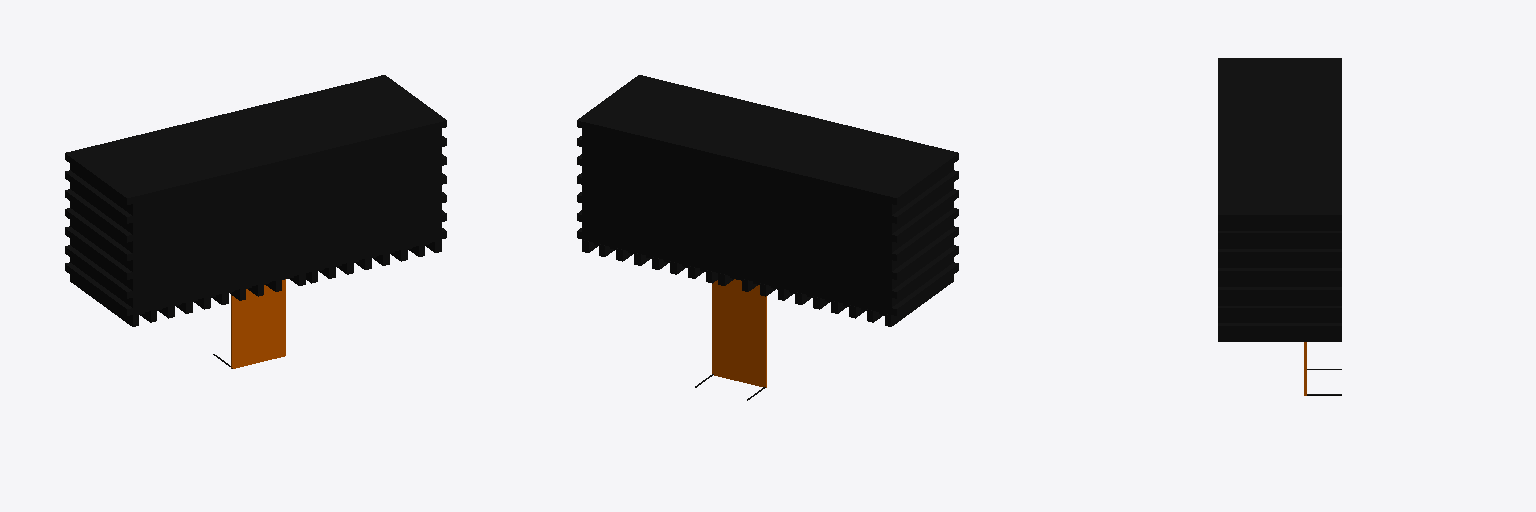
File: hunt2.obj
3 renders of one model, left to right at view 1: azimuth 30°, elevation 25°; view 2: azimuth 150°, elevation 25°; view 3: azimuth 270°, elevation 25°, orthographic.
Parts seen in each view (by area): view 1: object_1, object_4, object_43, object_3, object_35, object_36, object_31, object_34, object_30, object_32, object_33; view 2: object_2, object_4, object_43, object_3, object_35, object_36, object_31, object_34, object_30, object_32, object_33, object_7; view 3: object_4, object_5, object_26, object_27, object_29, object_22, object_23, object_24, object_25, object_28.
Boxes of the visible parts, x1=… form: object_1: x1=133, y1=122, x2=441, y2=314; object_4: x1=71, y1=76, x2=441, y2=196; object_43: x1=231, y1=279, x2=285, y2=368; object_3: x1=70, y1=164, x2=132, y2=307; object_35: x1=65, y1=245, x2=132, y2=298; object_36: x1=65, y1=262, x2=132, y2=315; object_31: x1=65, y1=170, x2=132, y2=223; object_34: x1=65, y1=226, x2=132, y2=279; object_30: x1=65, y1=152, x2=132, y2=204; object_32: x1=65, y1=189, x2=132, y2=242; object_33: x1=65, y1=208, x2=132, y2=260; object_2: x1=582, y1=122, x2=891, y2=314; object_4: x1=582, y1=76, x2=953, y2=196; object_43: x1=712, y1=279, x2=766, y2=387; object_3: x1=892, y1=164, x2=953, y2=306; object_35: x1=891, y1=245, x2=958, y2=298; object_36: x1=891, y1=262, x2=958, y2=315; object_31: x1=891, y1=170, x2=958, y2=223; object_34: x1=891, y1=226, x2=958, y2=279; object_30: x1=891, y1=152, x2=958, y2=204; object_32: x1=891, y1=189, x2=958, y2=242; object_33: x1=891, y1=208, x2=958, y2=260; object_7: x1=885, y1=275, x2=953, y2=326; object_4: x1=1218, y1=61, x2=1341, y2=211; object_5: x1=1218, y1=222, x2=1341, y2=322; object_26: x1=1218, y1=268, x2=1341, y2=277; object_27: x1=1218, y1=249, x2=1341, y2=258; object_29: x1=1218, y1=212, x2=1341, y2=221; object_22: x1=1218, y1=332, x2=1341, y2=341; object_23: x1=1218, y1=323, x2=1341, y2=331; object_24: x1=1218, y1=306, x2=1341, y2=314; object_25: x1=1218, y1=287, x2=1341, y2=295; object_28: x1=1218, y1=231, x2=1341, y2=239.
Size of the model in its own units: 7.16 by 5.1 by 2.42.